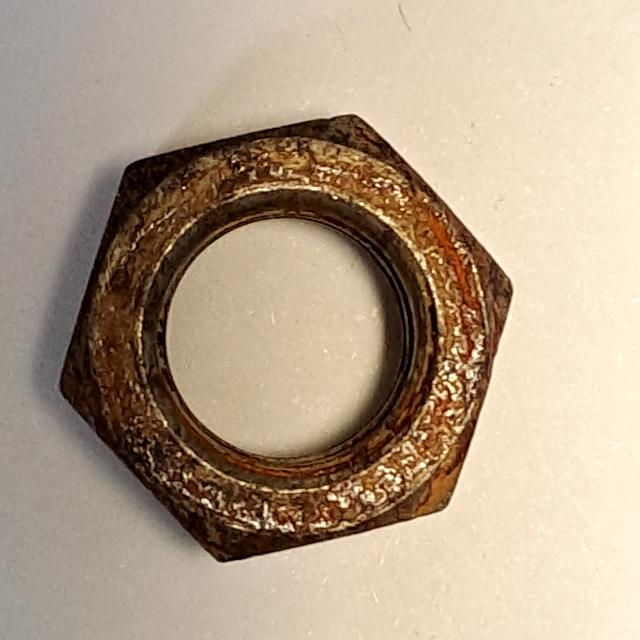Rust: (38, 98, 530, 575)
